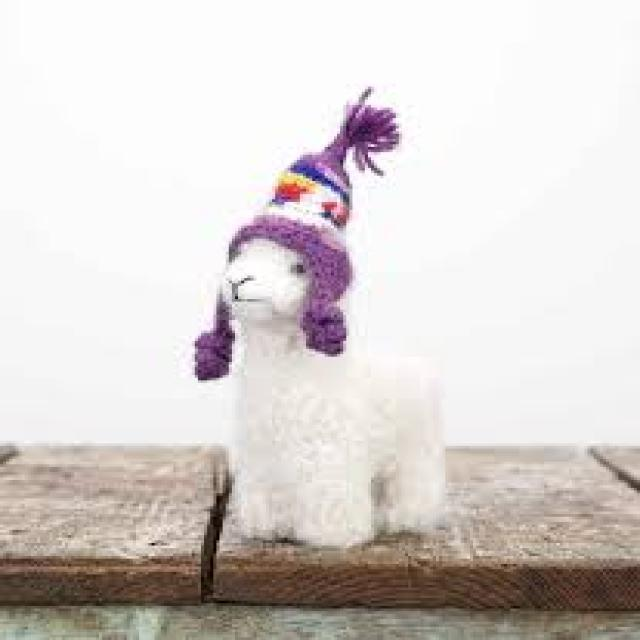soft-toy: (196, 91, 446, 547)
